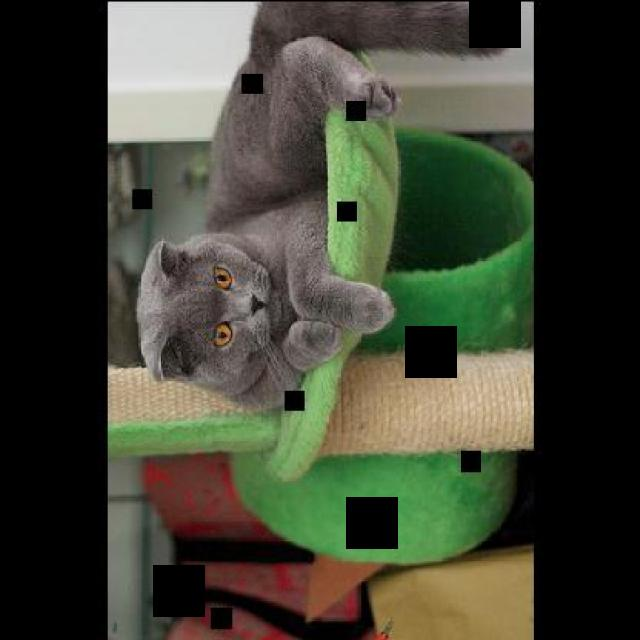unauthorized: (132, 0, 512, 411)
